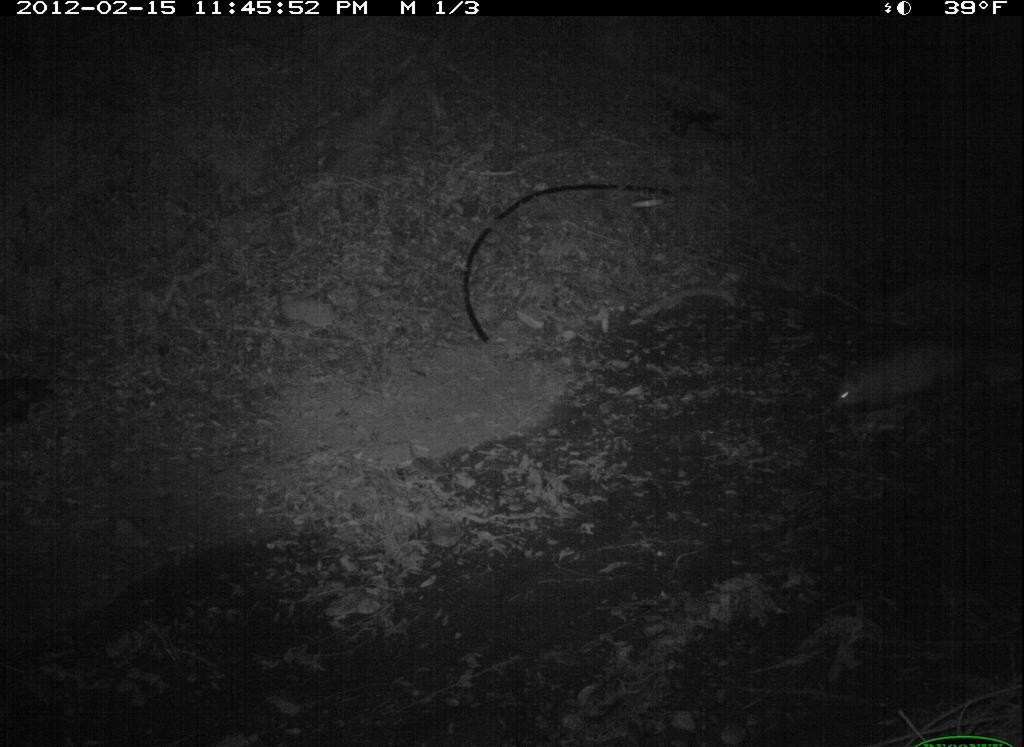opossum: (825, 327, 995, 428)
